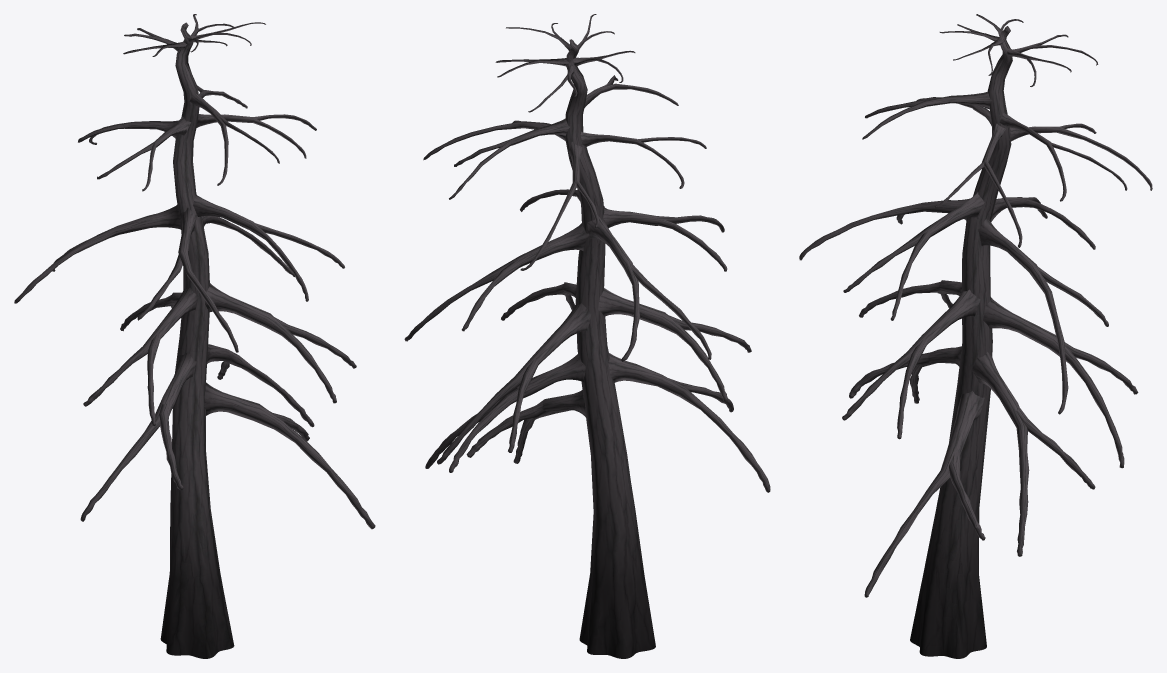
Rendered from dead3.glb.
The picture shows the model from 3 angles, left to right: view 1: azimuth 30°, elevation 25°; view 2: azimuth 150°, elevation 25°; view 3: azimuth 270°, elevation 25°; orthographic projection. The views are drawn at different scales.
Visible parts, largest first — view 1: DeadTree_5; view 2: DeadTree_5; view 3: DeadTree_5.
Boxes of the visible parts, <box> form: DeadTree_5: <box>14,14,375,658</box>; DeadTree_5: <box>404,14,770,658</box>; DeadTree_5: <box>799,14,1152,658</box>.
Bounding box in the file's own units: 4.6 × 9.04 × 4.63.
Materials: 1 (1 with a texture image).
